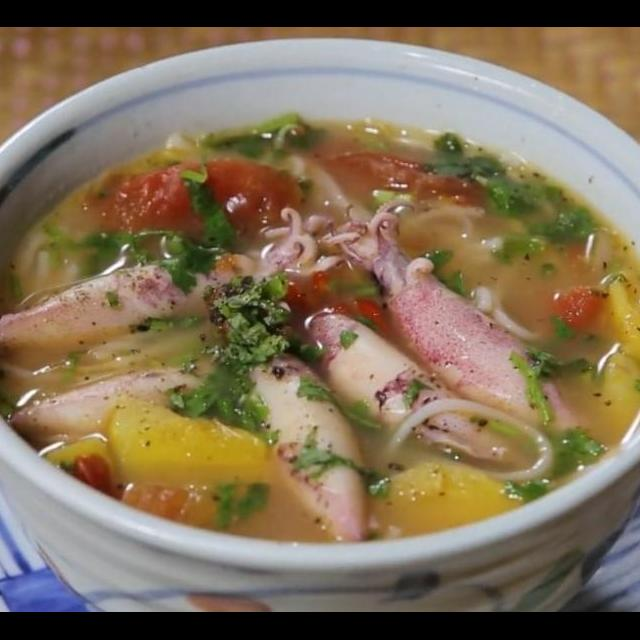bun: (370, 394, 562, 488), (396, 195, 512, 276), (11, 224, 100, 304)
muc: (311, 194, 588, 443), (0, 199, 353, 363), (292, 306, 526, 468), (232, 339, 382, 546), (1, 336, 242, 454)
